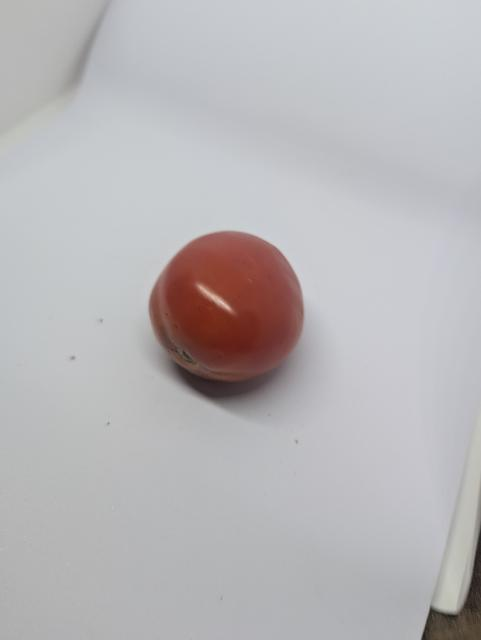red: (147, 229, 308, 385)
